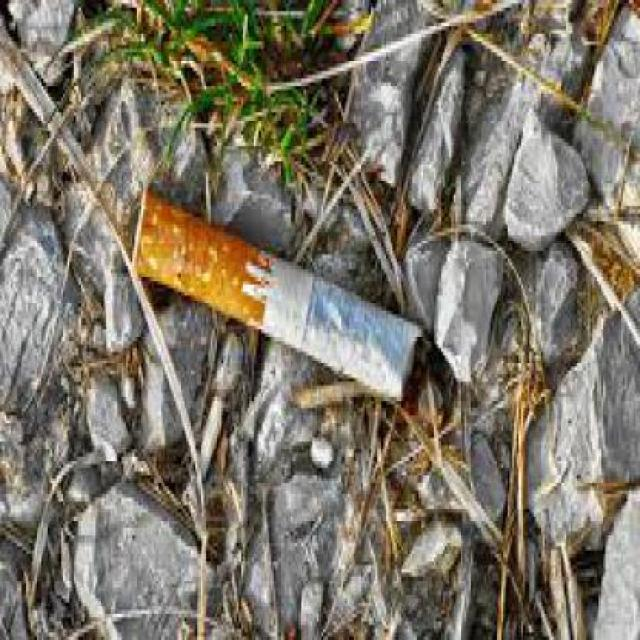cigarette: (130, 168, 432, 412)
